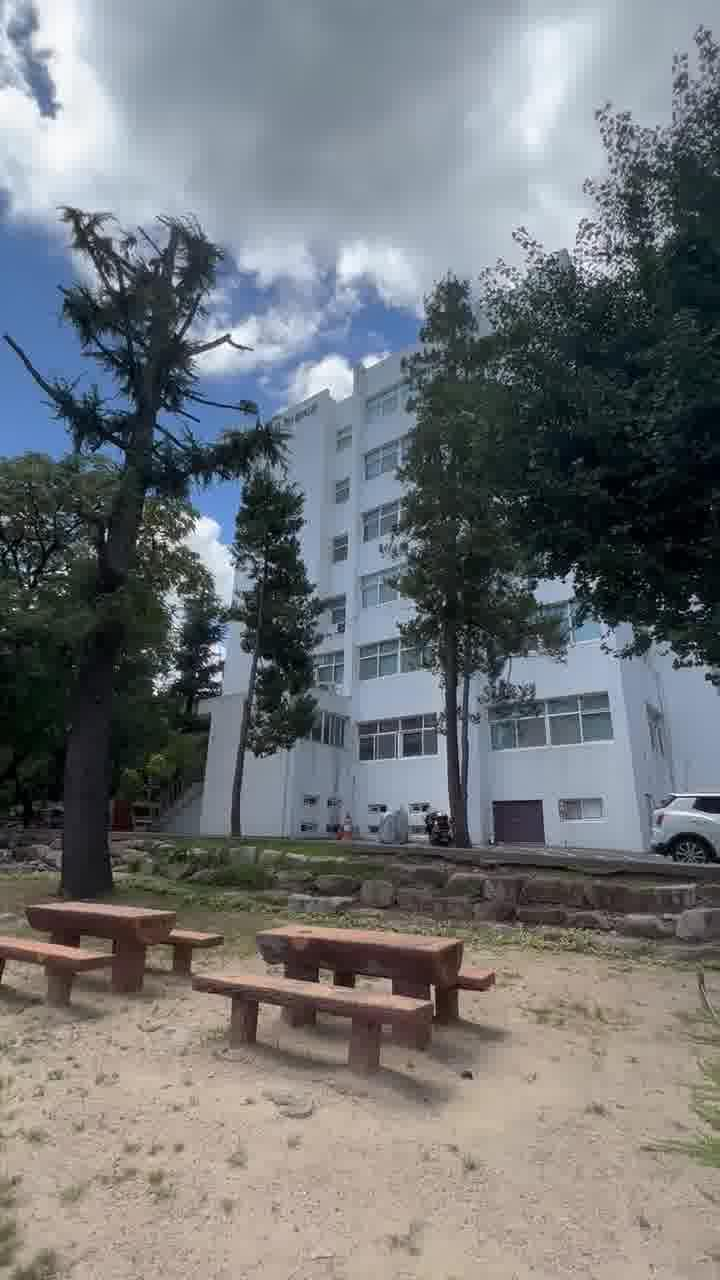building: (320, 354, 422, 846)
